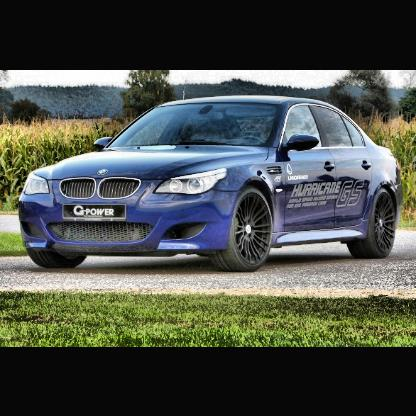BMW M5 Sedan 2010: (21, 95, 405, 271)
